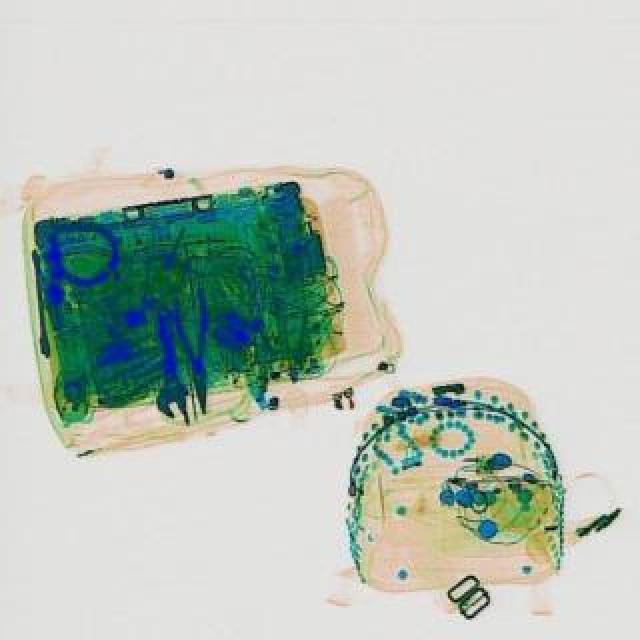scissors: (140, 300, 194, 420), (30, 246, 50, 358)
wrench: (170, 286, 222, 414)
